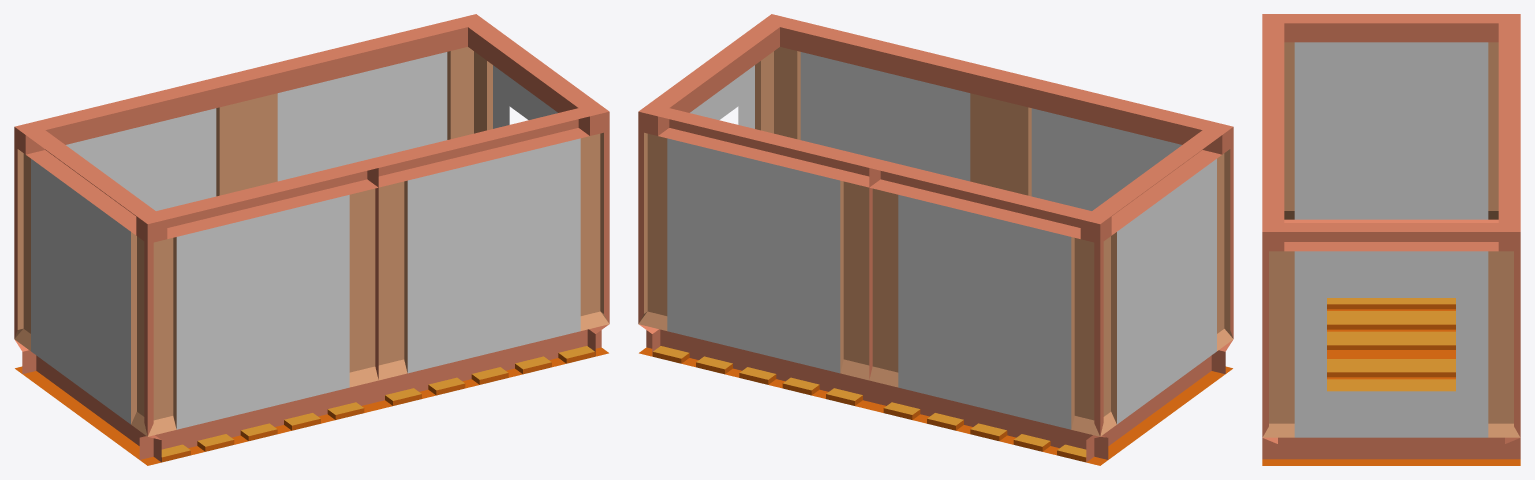
Rendered from Room.fbx.
3 views of the same model, side by side, from view 1: azimuth 30°, elevation 25°; view 2: azimuth 150°, elevation 25°; view 3: azimuth 270°, elevation 25° (orthographic). The views are drawn at different scales.
Visible parts, largest first — view 1: Plane.001, Plane.007, Plane.004, Plane.006, Plane.005, Plane.002, Plane.003, Plane; view 2: Plane.005, Plane.006, Plane.004, Plane.007, Plane.001, Plane.002, Plane.003, Plane; view 3: Plane.002, Plane.004, Plane.003, Plane, Plane.007, Plane.006, Plane.001, Plane.005.
Boxes of the visible parts, x1,y1,x2,y2 form: Plane.001: (136, 159, 378, 459); Plane.007: (367, 103, 609, 403); Plane.004: (14, 122, 167, 462); Plane.006: (246, 14, 486, 188); Plane.005: (14, 70, 256, 374); Plane.002: (457, 14, 609, 356); Plane.003: (15, 366, 377, 465); Plane: (371, 346, 608, 409); Plane.005: (869, 159, 1111, 459); Plane.006: (638, 103, 879, 403); Plane.004: (1080, 127, 1233, 462); Plane.007: (761, 14, 1001, 188); Plane.001: (991, 70, 1233, 374); Plane.002: (638, 14, 790, 356); Plane.003: (870, 366, 1232, 465); Plane: (639, 346, 876, 409); Plane.002: (1262, 223, 1520, 459); Plane.004: (1262, 14, 1520, 222); Plane.003: (1327, 298, 1455, 356); Plane: (1262, 357, 1520, 465); Plane.007: (1262, 123, 1284, 443); Plane.006: (1498, 123, 1520, 443); Plane.001: (1262, 14, 1284, 122); Plane.005: (1498, 14, 1520, 122).
Bounding box in the file's own units: 800 × 400 × 400.
